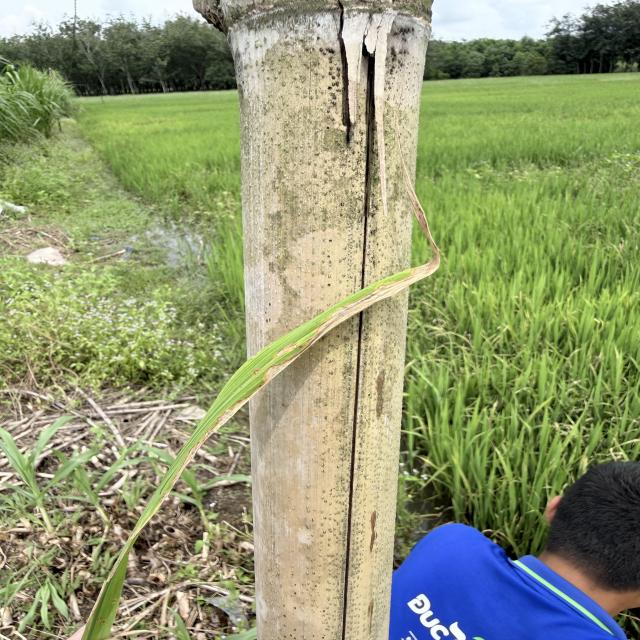Chay bia la: (130, 172, 449, 534)
